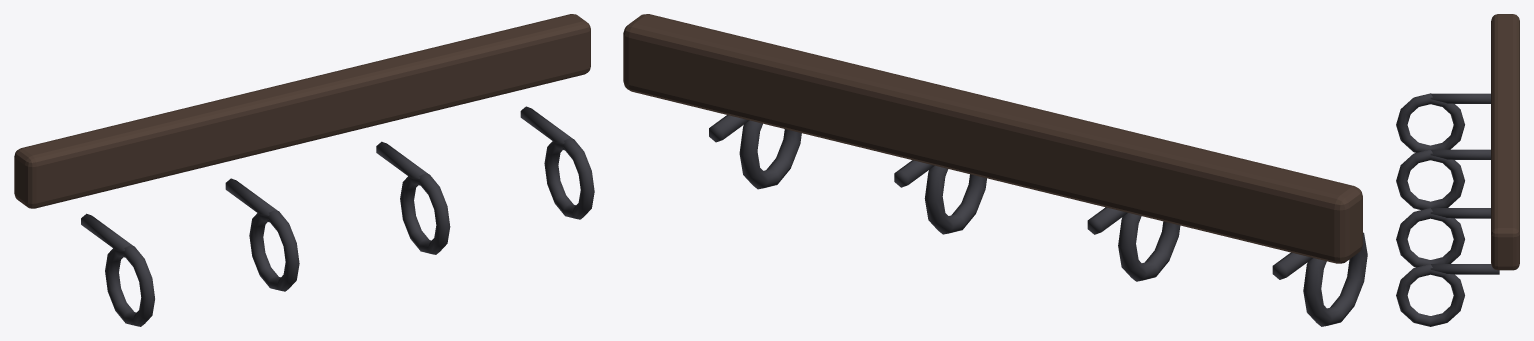
The model's file is wall_chain_hooks_row.glb.
The picture shows the model from 3 angles, left to right: view 1: azimuth 30°, elevation 25°; view 2: azimuth 150°, elevation 25°; view 3: azimuth 270°, elevation 25°; orthographic projection. The views are drawn at different scales.
Parts seen in each view (by area): view 1: GD_wall_chain_hooks_row__m0, GD_wall_chain_hooks_row__m1; view 2: GD_wall_chain_hooks_row__m0, GD_wall_chain_hooks_row__m1; view 3: GD_wall_chain_hooks_row__m1, GD_wall_chain_hooks_row__m0.
Boxes of the visible parts, box(x1,y1,x2,y2) form: GD_wall_chain_hooks_row__m0: box(14, 14, 590, 208); GD_wall_chain_hooks_row__m1: box(81, 106, 594, 326); GD_wall_chain_hooks_row__m0: box(623, 14, 1362, 263); GD_wall_chain_hooks_row__m1: box(709, 115, 1367, 326); GD_wall_chain_hooks_row__m1: box(1396, 93, 1499, 326); GD_wall_chain_hooks_row__m0: box(1491, 14, 1519, 270).
Size of the model in its own units: 0.9 by 0.23 by 0.215.
